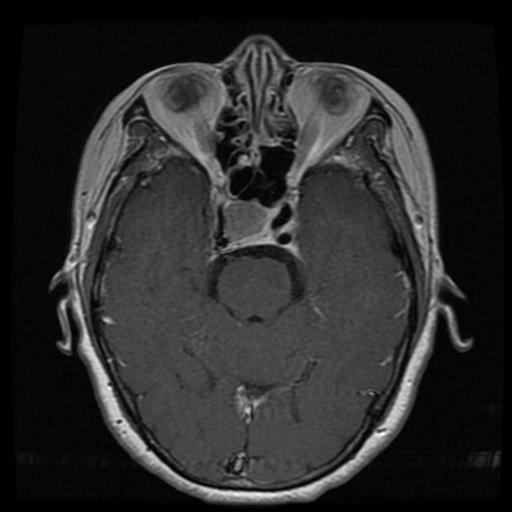Tumour-Pituitary: (209, 197, 307, 268)
